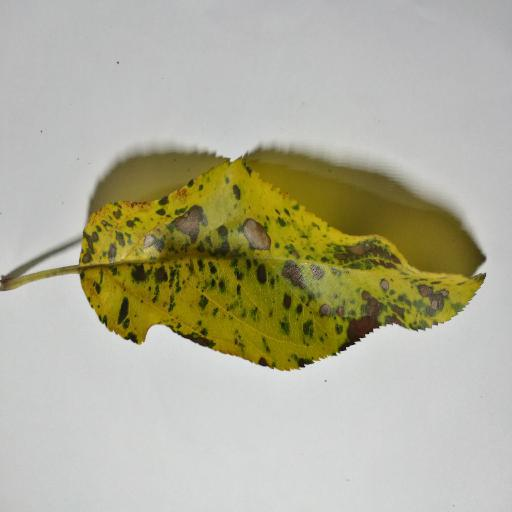Brown_Spot: (350, 299, 380, 337), (83, 232, 108, 272), (179, 208, 206, 241), (245, 228, 266, 252), (286, 264, 310, 282), (421, 294, 440, 310), (319, 306, 338, 320), (380, 280, 388, 291)
